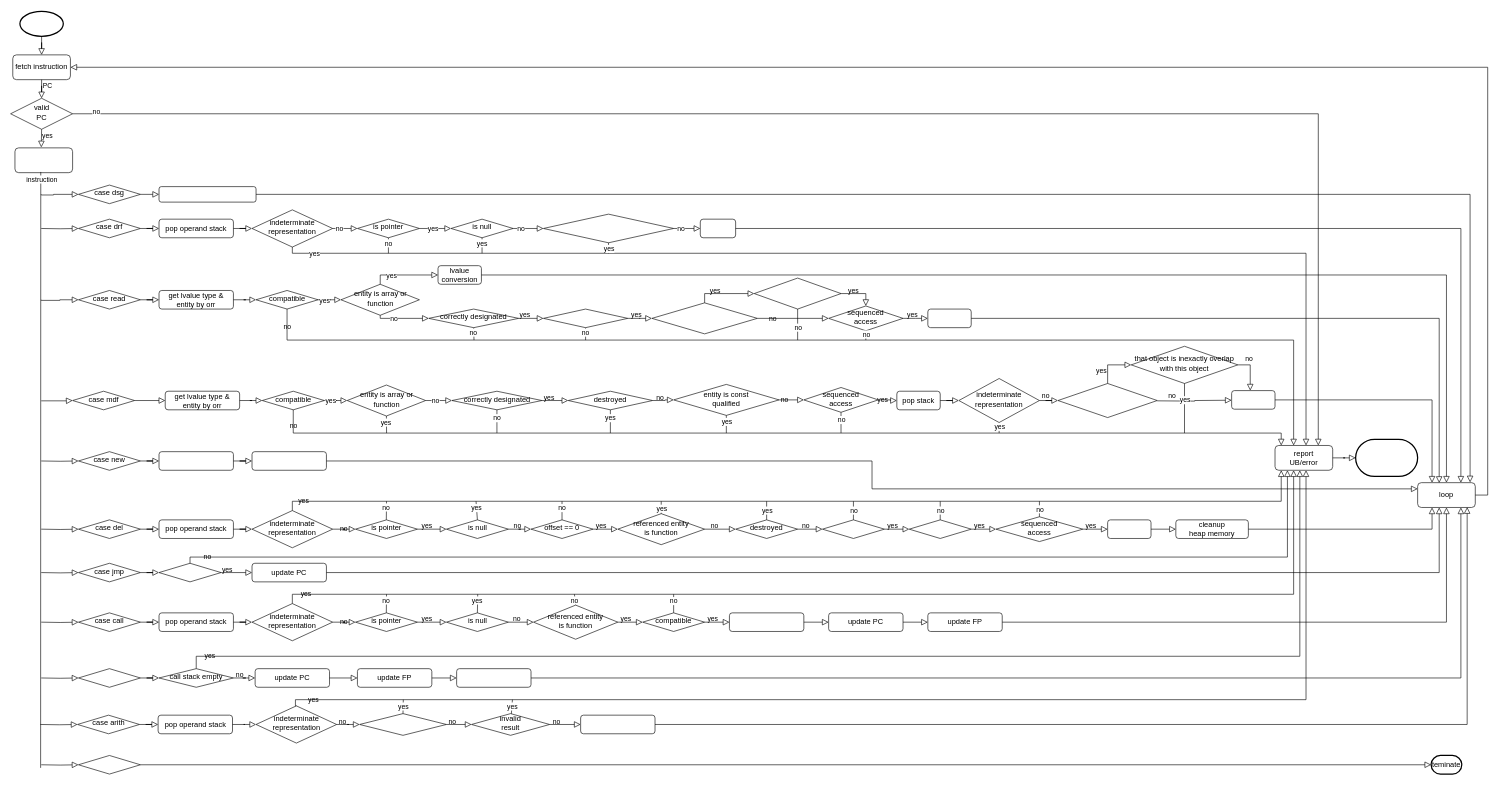
Image size: 1505x785. Some labels were removed from this diagram. Each missing label, with the centre of its shape:
"abort" goes at [1386,457].
"case halt" goes at [109,764].
"case ret" goes at [109,677].
"entity is volatile qualified" goes at [704,318].
"invalid operand" goes at [402,724].
"is heap object" goes at [940,528].
"is top object" goes at [853,528].
"lvalue type is volatile qualified" goes at [797,293].
"memory" goes at [43,160].
"new object" goes at [195,460].
"points one past the last element" goes at [608,228].
"pop call stack" goes at [493,677].
"push call stack" goes at [766,621].
"push operand stack" goes at [617,724].
"push pointer to stack" goes at [288,460].
"read value & push stack" goes at [949,318].
"set object reference register" goes at [207,194].
"set orr" goes at [718,228].
"start" goes at [41,24].
"update object status" goes at [1129,528].
"valid address" goes at [189,572].
"value is directly read by object" goes at [1107,400].
"well representation" goes at [585,318].
"write value" goes at [1253,399].
